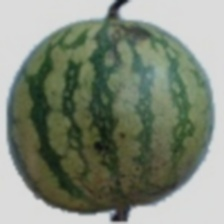watermelon: (21, 15, 216, 216)
